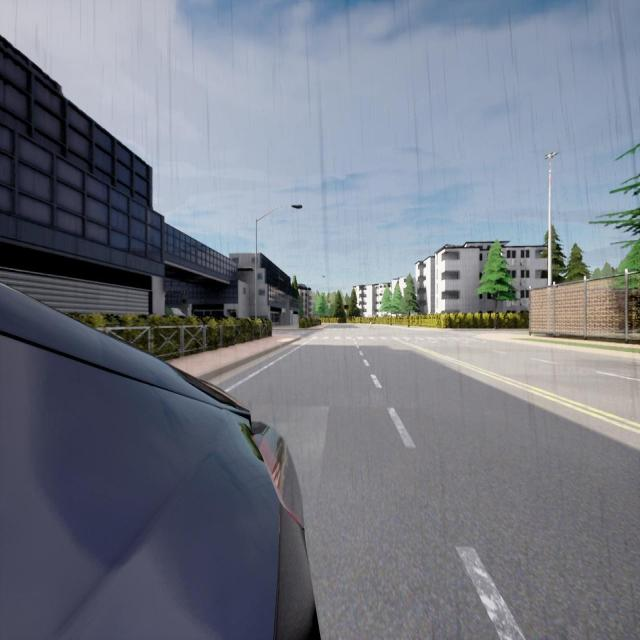Pedestrian: (369, 321, 374, 331)
Vehicle: (0, 284, 318, 638)
